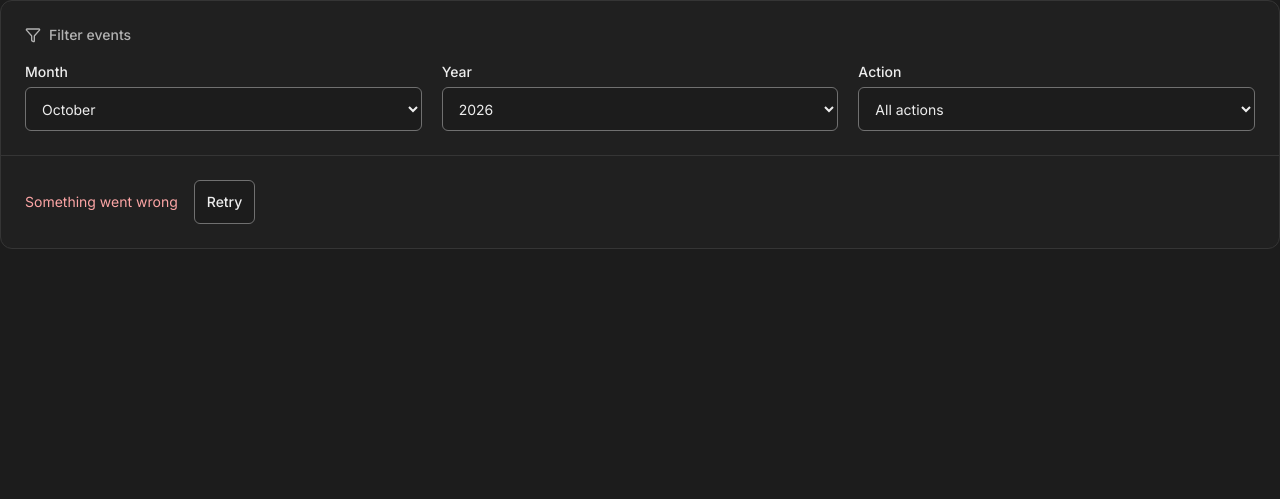
Scenario: audit logs: states › shows the error with a retry that asks again
expect the message reads "Something went wrong": met, box [25,193,178,210]
Click the button "Retry": (225, 202) [194,180,255,224]
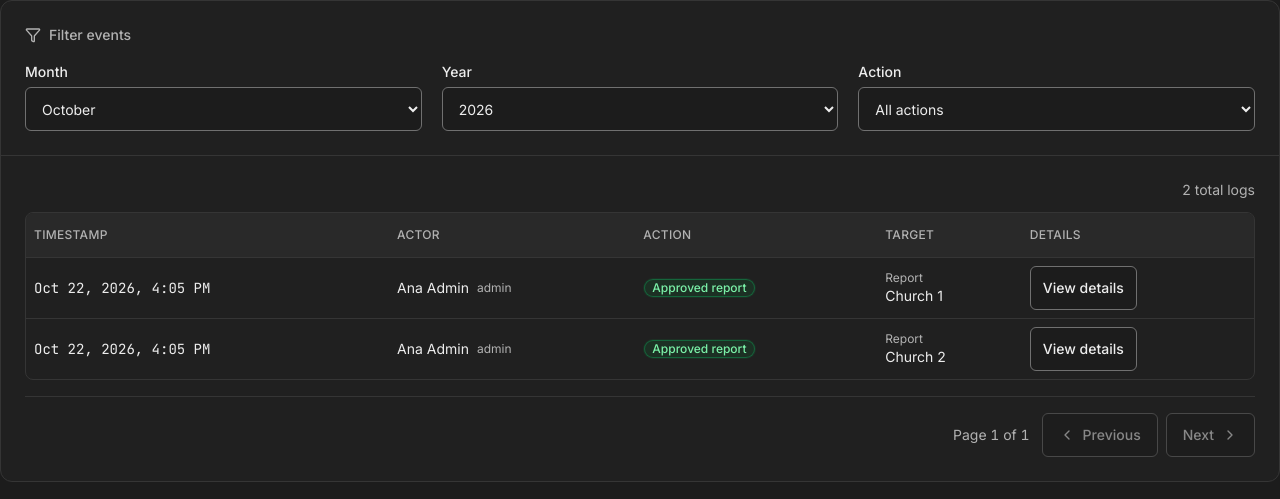
expect the text "Church 1" is shown: met, box [885,286,943,304]
